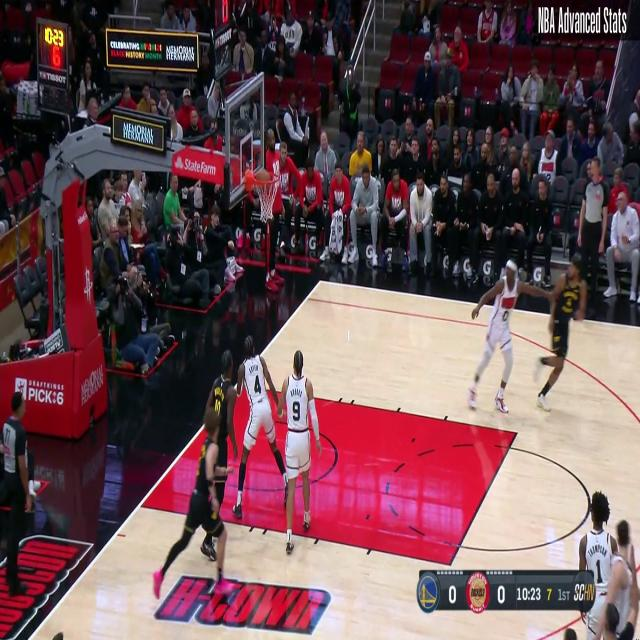ball: (572, 490, 618, 636), (257, 161, 271, 197)
judge: (1, 382, 33, 590), (572, 159, 610, 297)
player: (148, 413, 230, 602), (466, 262, 551, 414), (532, 262, 594, 415), (234, 343, 288, 517), (276, 351, 322, 551), (202, 351, 240, 552)
